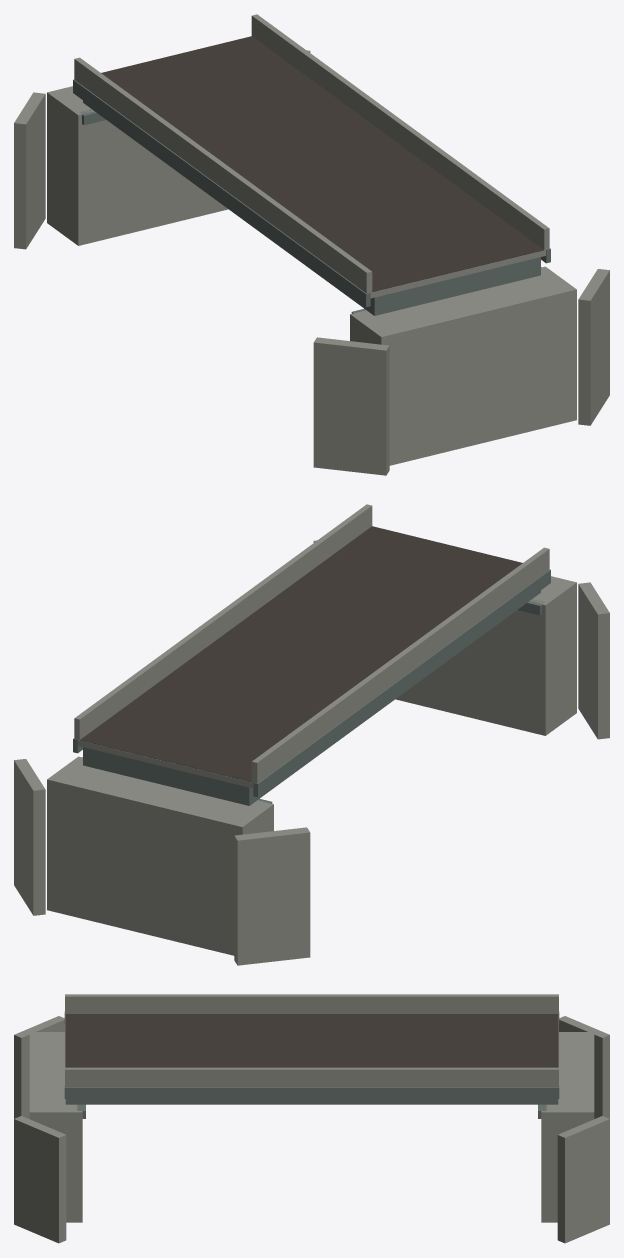
The model's file is SM_paso_superior_LOD1.fbx.
3 views of the same model, one above another, from view 1: azimuth 30°, elevation 25°; view 2: azimuth 150°, elevation 25°; view 3: azimuth 270°, elevation 25° (orthographic). The views are drawn at different scales.
Visible parts, largest first — view 1: SM_bloques.paso_superior_LOD1; view 2: SM_bloques.paso_superior_LOD1; view 3: SM_bloques.paso_superior_LOD1.
Boxes of the visible parts, x1=… form: SM_bloques.paso_superior_LOD1: x1=14, y1=14, x2=609, y2=475; SM_bloques.paso_superior_LOD1: x1=14, y1=504, x2=609, y2=965; SM_bloques.paso_superior_LOD1: x1=14, y1=994, x2=609, y2=1243.
Size of the model in its own units: 16.37 by 9.4 by 33.77.
